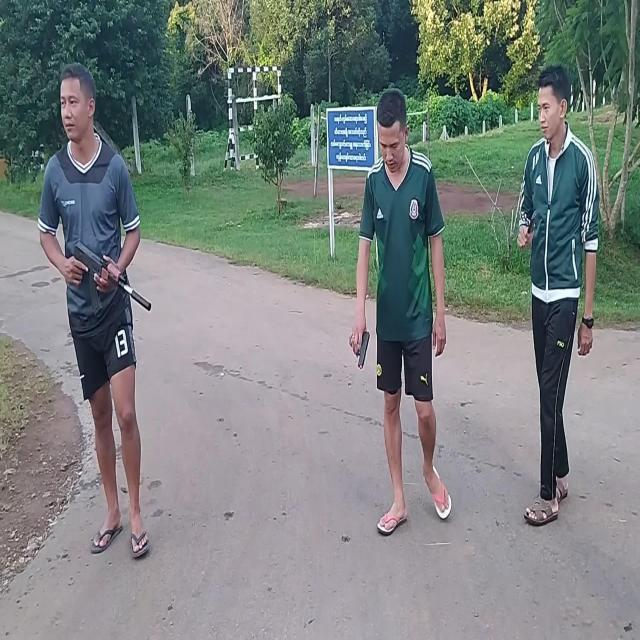gun: (74, 243, 152, 317), (358, 331, 370, 369)
